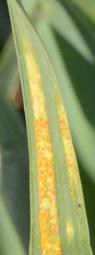Wheat: (27, 115, 63, 255)
